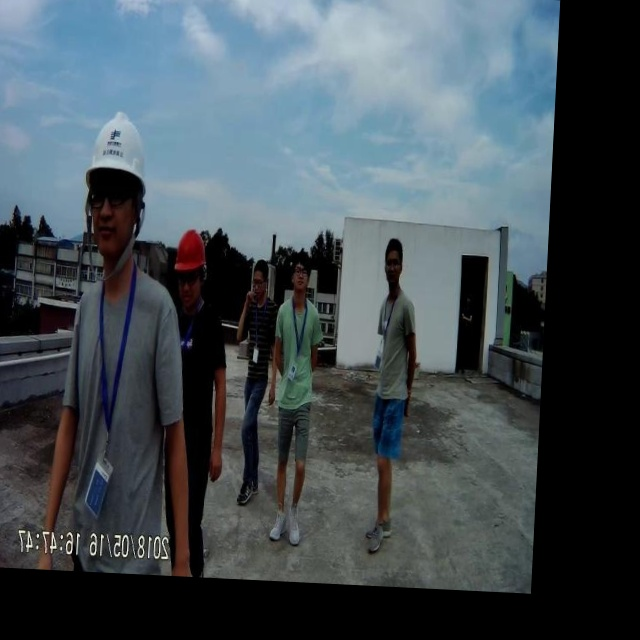Con_Casco: (80, 109, 150, 265)
Sin_Casco_Mascarrilla: (290, 250, 313, 294)
Sin_Chaleco: (273, 295, 319, 401)
